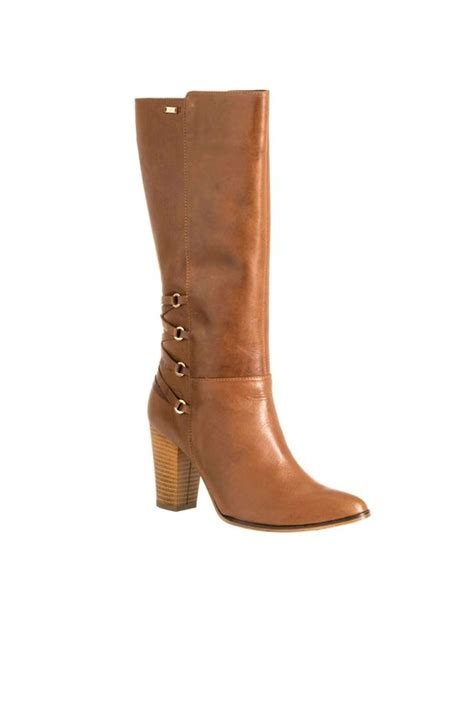cuero: (132, 90, 371, 534)
